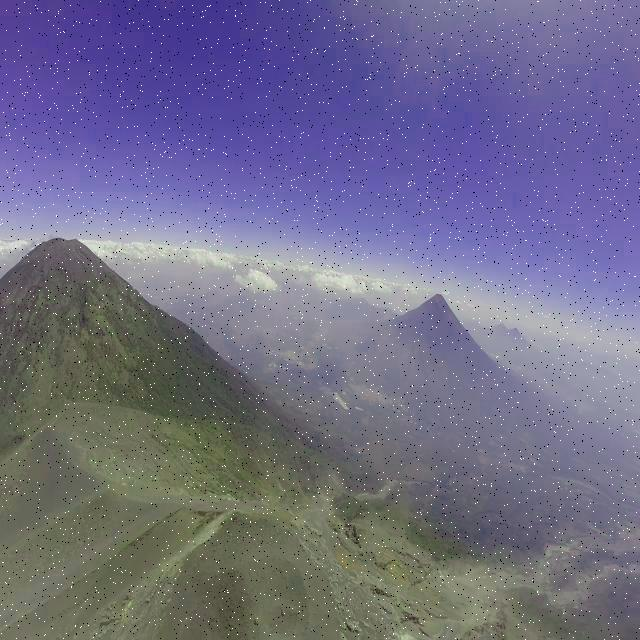Summit: (138, 496, 364, 640)
